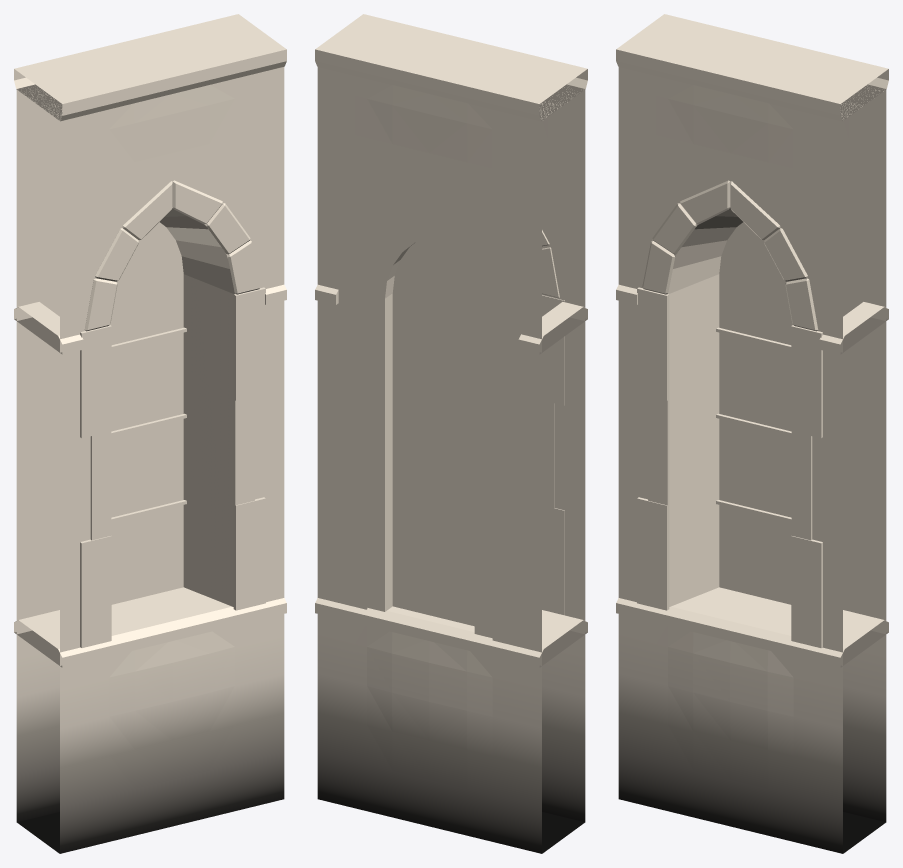
File: SM_VKI_Wall_Ashlar_Lancet_150_Full.fbx
The picture shows the model from 3 angles, left to right: view 1: azimuth 30°, elevation 25°; view 2: azimuth 150°, elevation 25°; view 3: azimuth 330°, elevation 25°; orthographic projection.
Visible parts, largest first — view 1: SM_VKI_Wall_Ashlar_Lancet_150_Full.001; view 2: SM_VKI_Wall_Ashlar_Lancet_150_Full.001; view 3: SM_VKI_Wall_Ashlar_Lancet_150_Full.001.
Part boxes in pixels (x1,y1,x2,y2): SM_VKI_Wall_Ashlar_Lancet_150_Full.001: [14, 14, 286, 853]; SM_VKI_Wall_Ashlar_Lancet_150_Full.001: [315, 14, 587, 853]; SM_VKI_Wall_Ashlar_Lancet_150_Full.001: [616, 14, 888, 853].
Bounding box in the file's own units: 1.5 × 4.8 × 0.56.
